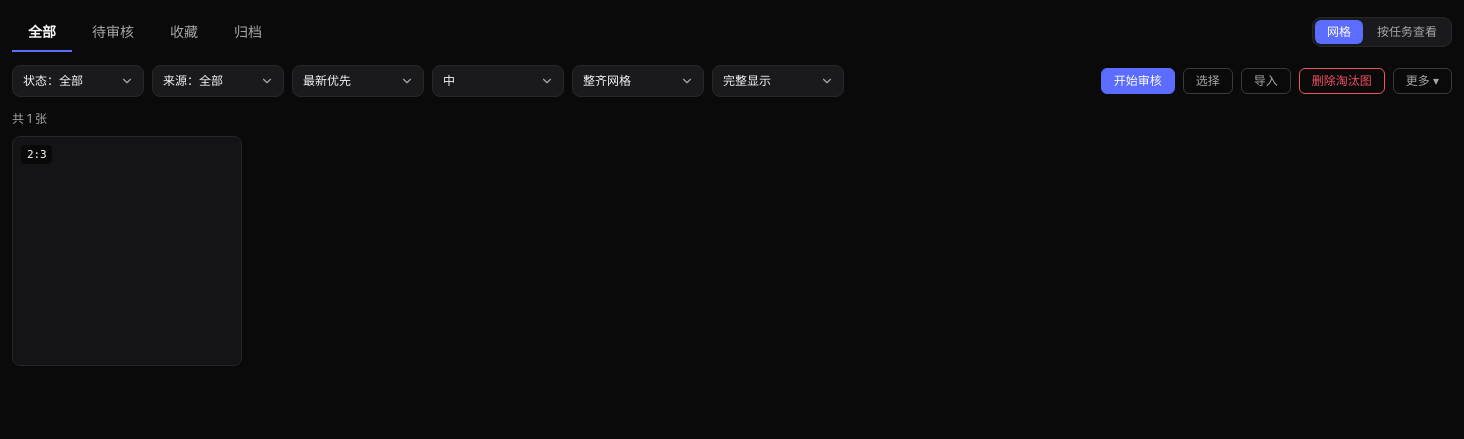
Test: GalleryPage 图库 › 批量归档所选图片并显示归档数量
Expected: the text "共 1 张" is shown, left=12, top=111, right=47, bottom=126
Click the button "选择".
click(1208, 81)  # box left=1183, top=68, right=1233, bottom=94
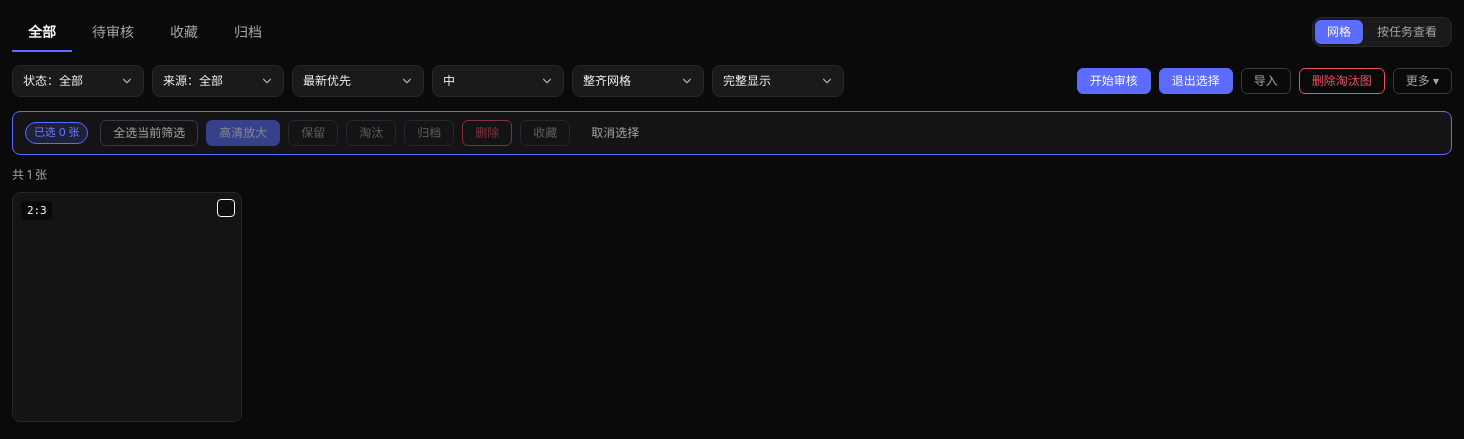
Click the element with class "gal-card".
click(127, 307)  # box left=12, top=192, right=242, bottom=422
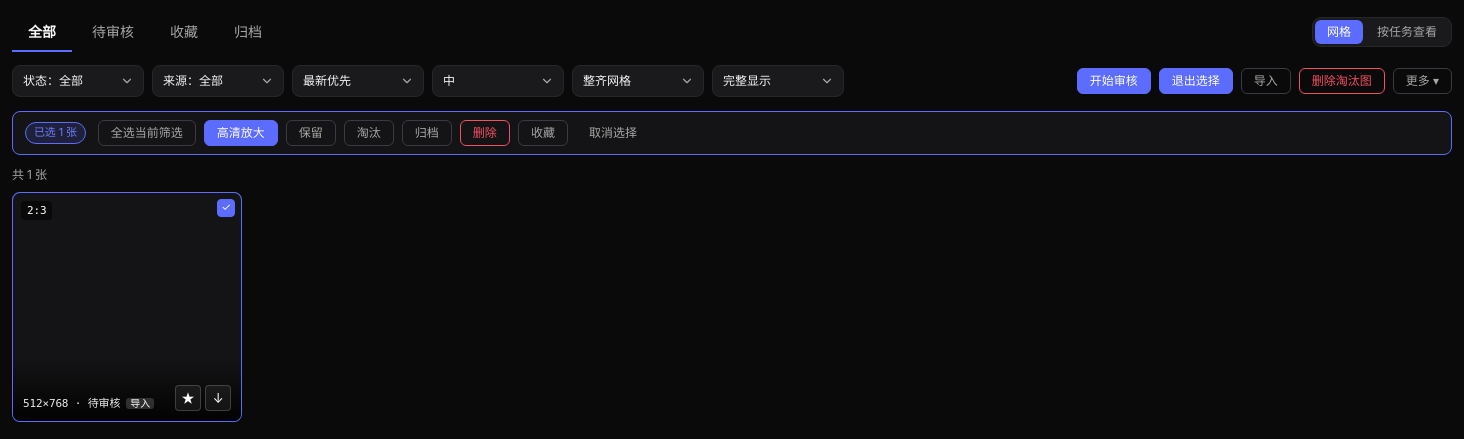
Click the button "归档".
click(427, 133)  # box left=402, top=120, right=452, bottom=146
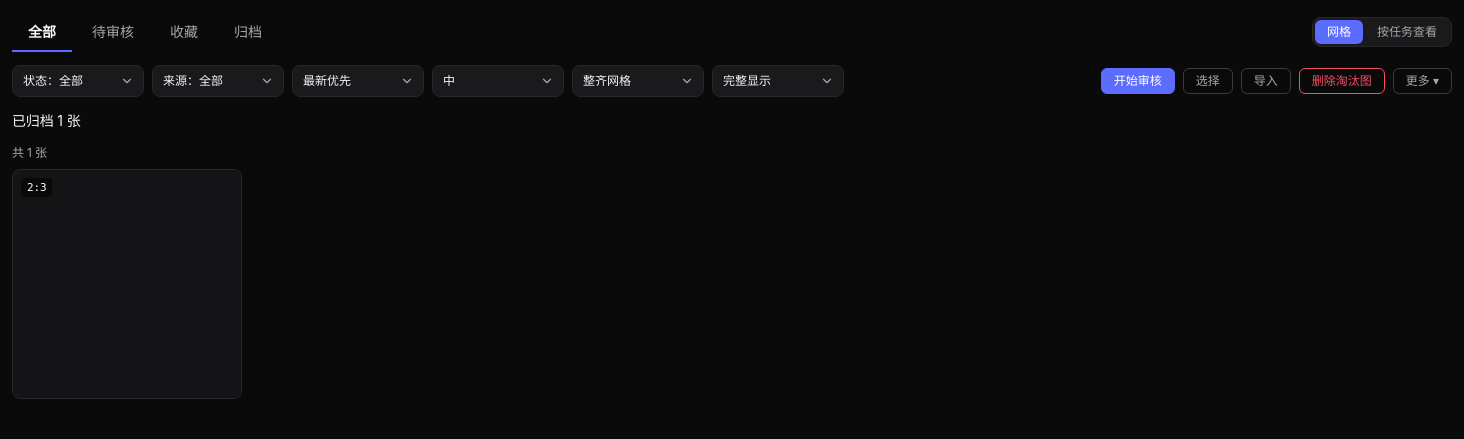
Result: the message reads "已归档 1 张" at left=12, top=112, right=80, bottom=129
